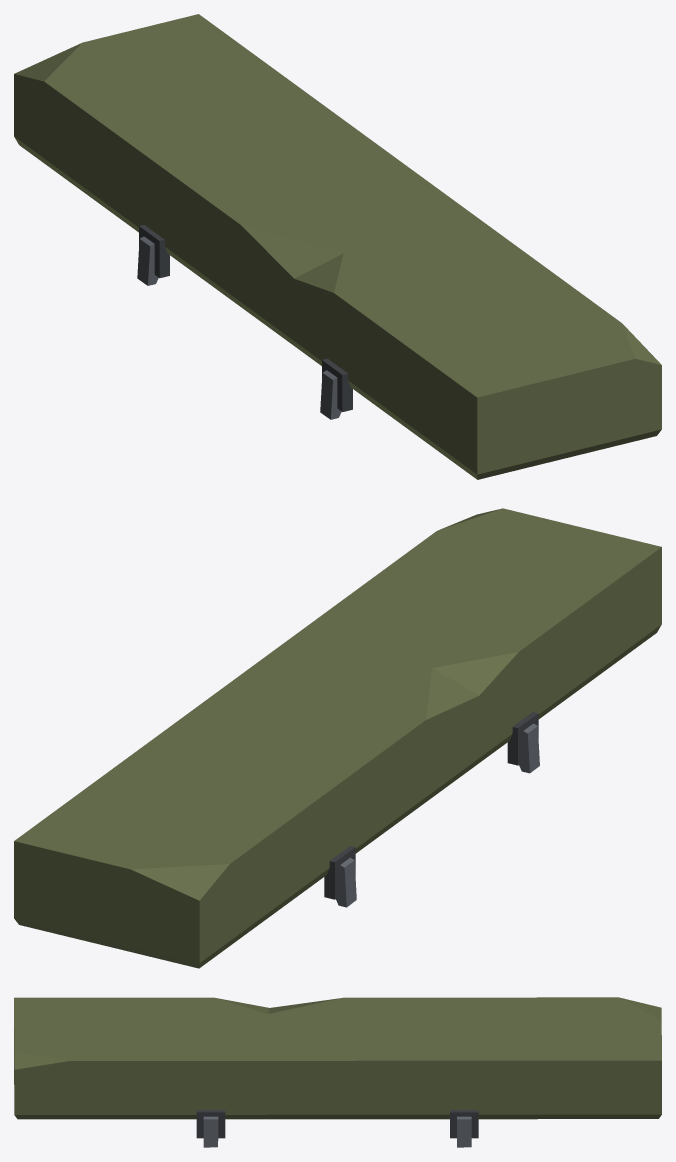
Rendered from SM_Prop_Missle_Crate_02_Lid.fbx.
3 views of the same model, one above another, from view 1: azimuth 30°, elevation 25°; view 2: azimuth 150°, elevation 25°; view 3: azimuth 270°, elevation 25° (orthographic). The views are drawn at different scales.
Visible parts, largest first — view 1: SM_Prop_Missle_Crate_02_Lid; view 2: SM_Prop_Missle_Crate_02_Lid; view 3: SM_Prop_Missle_Crate_02_Lid.
Boxes of the visible parts, x1,y1,x2,y2 form: SM_Prop_Missle_Crate_02_Lid: (14,14,661,479); SM_Prop_Missle_Crate_02_Lid: (14,508,661,968); SM_Prop_Missle_Crate_02_Lid: (14,997,661,1147).
Size of the model in its own units: 39.61 by 21.12 by 151.
